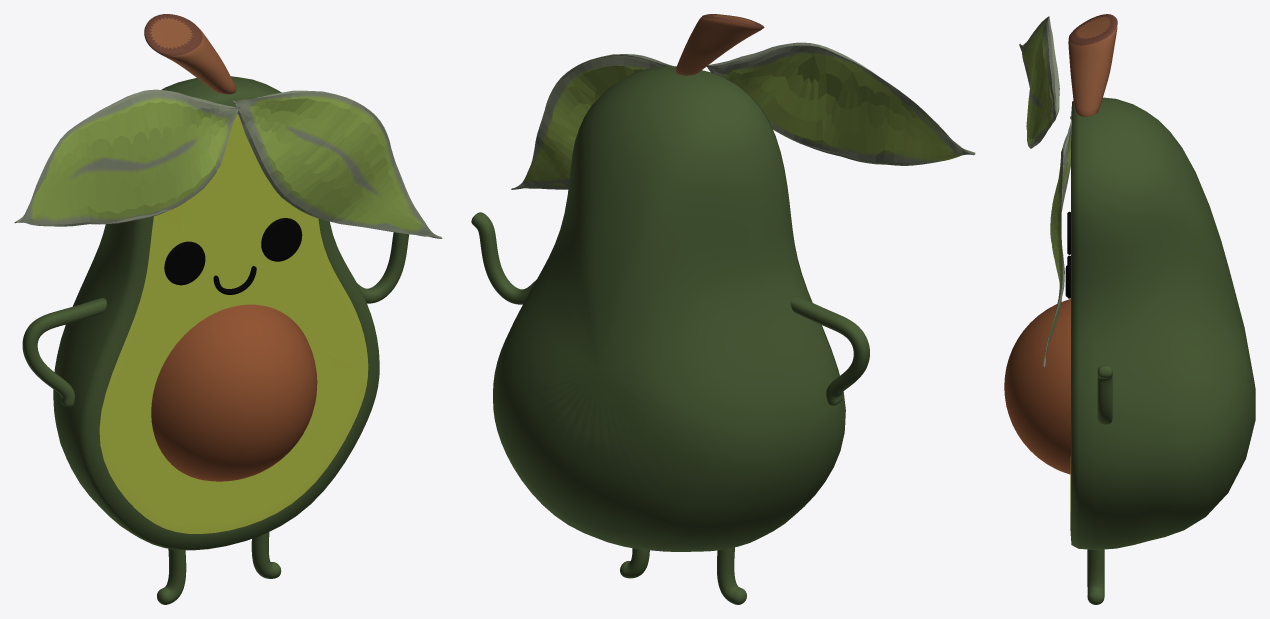
The model's file is asset.gltf.
The picture shows the model from 3 angles, left to right: view 1: azimuth 30°, elevation 25°; view 2: azimuth 150°, elevation 25°; view 3: azimuth 270°, elevation 25°; orthographic projection. The views are drawn at different scales.
Parts seen in each view (by area): view 1: NurbsCurve, Sphere, NurbsPath.007, NurbsPath.002, Cylinder.001, Cylinder, NurbsPath.005, NurbsPath.001, NurbsPath.004; view 2: NurbsCurve, NurbsPath.007, NurbsPath.002, Cylinder.001, NurbsPath.005, NurbsPath.004, NurbsPath.001; view 3: NurbsCurve, Sphere, Cylinder.001, NurbsPath.007, NurbsPath.002, NurbsPath.001, NurbsPath.004.
Part boxes in pixels (box(x1,y1,x2,y2)): NurbsCurve: box(53, 76, 379, 550); Sphere: box(151, 304, 317, 481); NurbsPath.007: box(14, 89, 241, 226); NurbsPath.002: box(232, 90, 442, 238); Cylinder.001: box(144, 14, 236, 94); Cylinder: box(164, 218, 302, 285); NurbsPath.005: box(22, 298, 106, 407); NurbsPath.001: box(157, 532, 281, 604); NurbsPath.004: box(357, 232, 409, 303); NurbsCurve: box(493, 66, 845, 551); NurbsPath.007: box(706, 42, 975, 165); NurbsPath.002: box(511, 54, 673, 189); Cylinder.001: box(675, 14, 764, 75); NurbsPath.005: box(790, 296, 869, 405); NurbsPath.004: box(471, 212, 536, 304); NurbsPath.001: box(620, 547, 746, 604); NurbsCurve: box(1070, 97, 1255, 549); Sphere: box(1004, 299, 1070, 474); Cylinder.001: box(1068, 14, 1117, 116); NurbsPath.007: box(1019, 16, 1059, 148); NurbsPath.002: box(1043, 116, 1071, 366); NurbsPath.001: box(1087, 549, 1104, 604); NurbsPath.004: box(1097, 365, 1112, 424).
Bounding box in the file's own units: 0.7252 × 0.9022 × 0.3817.
Materials: 8 (1 with a texture image).
